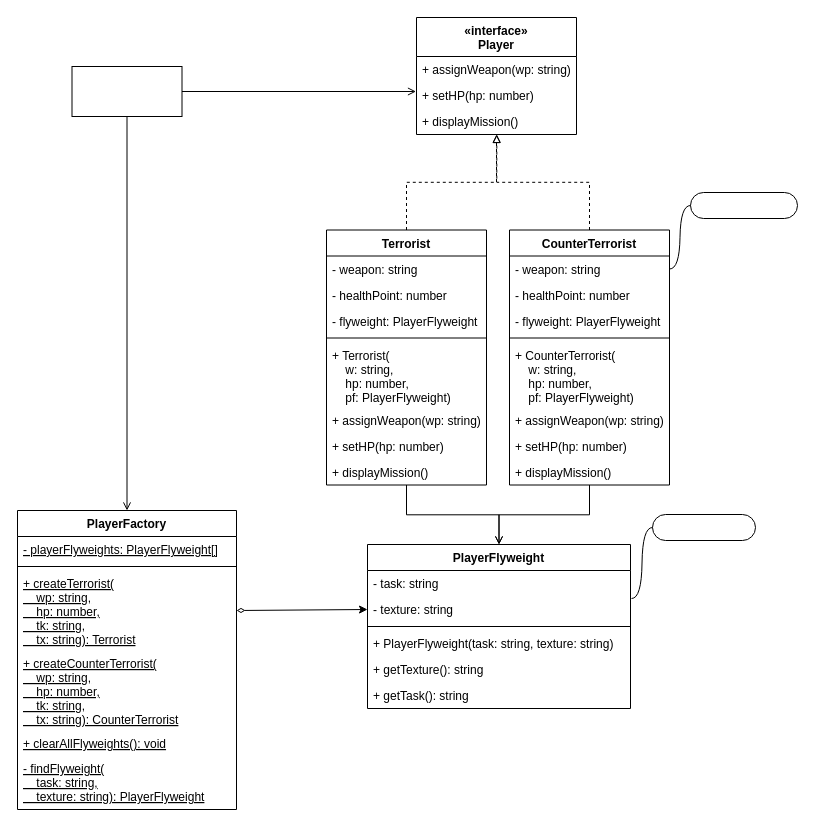
Image size: 815x830. Some labels were removed from this diagram. Here are the shapes that lost their labels. From the top down, the centre of each, then its label:
At [126,91]: "Client".
At [744,205]: "Extrinsic attrs".
At [704,527]: "Intrinsic attrs".
